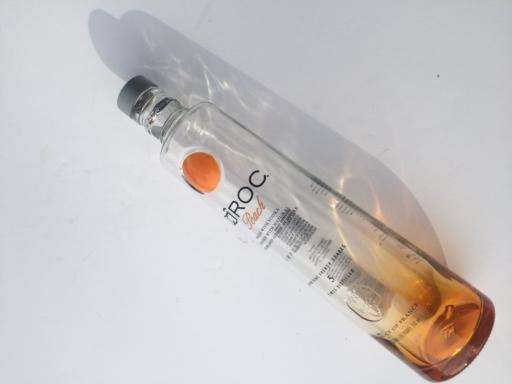botolkaca: (117, 76, 495, 381)
